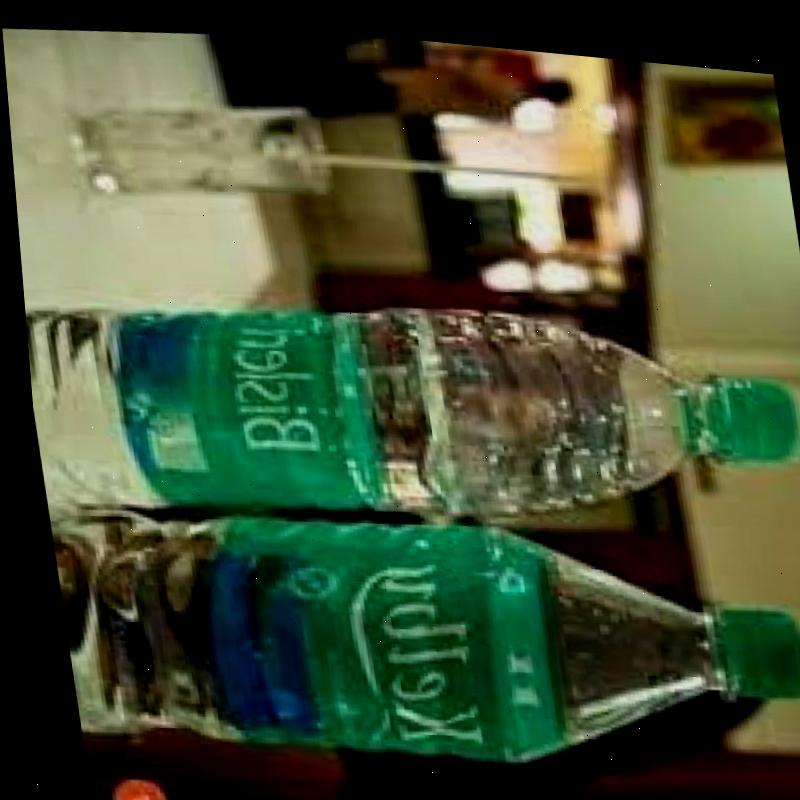botella: (36, 457, 800, 800), (16, 242, 800, 567)
